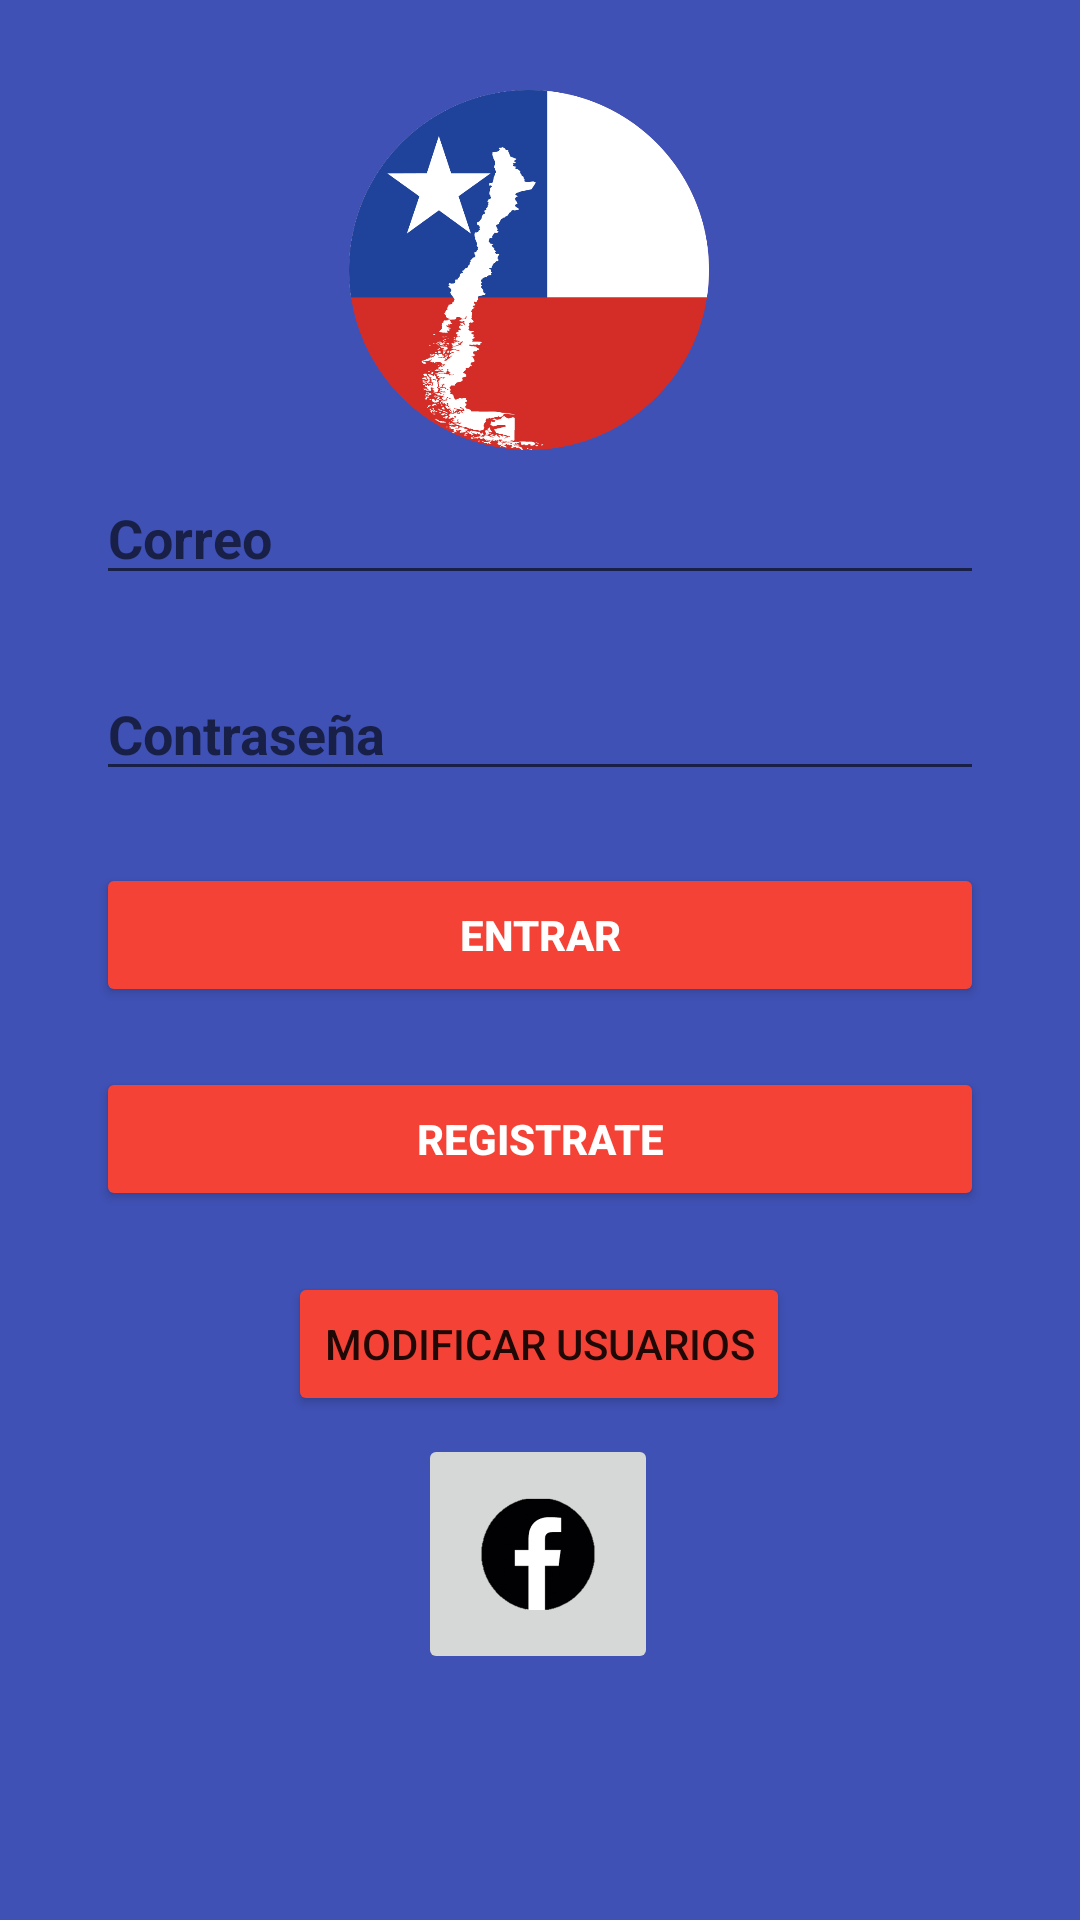

Icon click points for this 1080px x 1920px phone screenshot, format (x,y):
chiile: (529,270)
